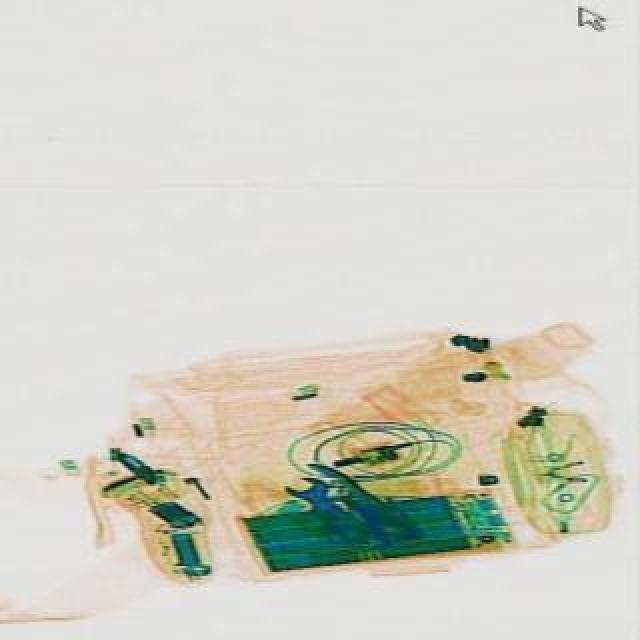knife: (298, 448, 416, 548)
scissors: (280, 464, 362, 546)
